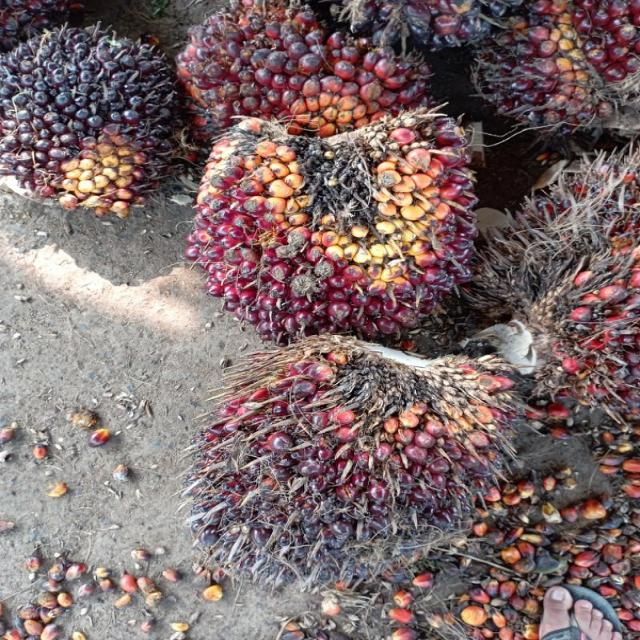fraksi 00: (0, 28, 190, 214)
fraksi 1: (186, 344, 520, 587), (195, 106, 485, 340), (168, 0, 444, 147)
